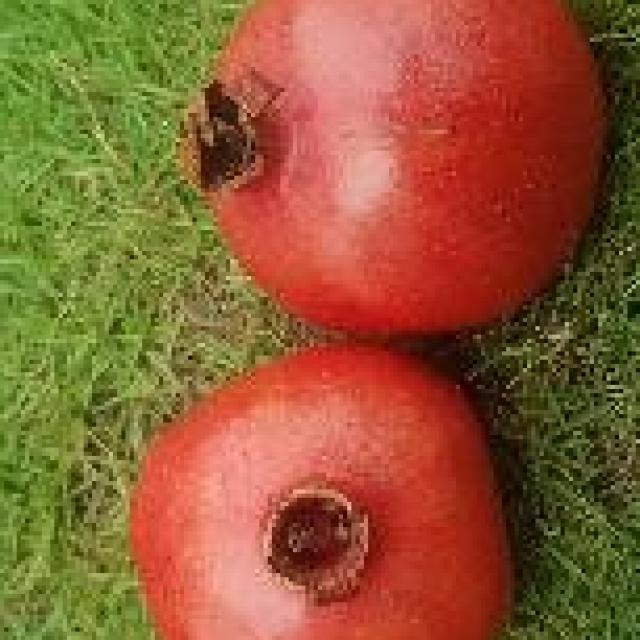Good_Lime-10-21 days: (113, 0, 619, 640)
Good_Pomegranate 50-60-days: (172, 0, 619, 343)
